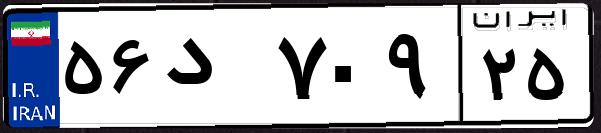0: (330, 28, 385, 110)
2: (475, 38, 525, 113)
5: (57, 26, 110, 100), (525, 38, 570, 115)
6: (110, 28, 158, 98)
7: (270, 28, 330, 110)
9: (385, 28, 445, 110)
د: (158, 20, 270, 120)
